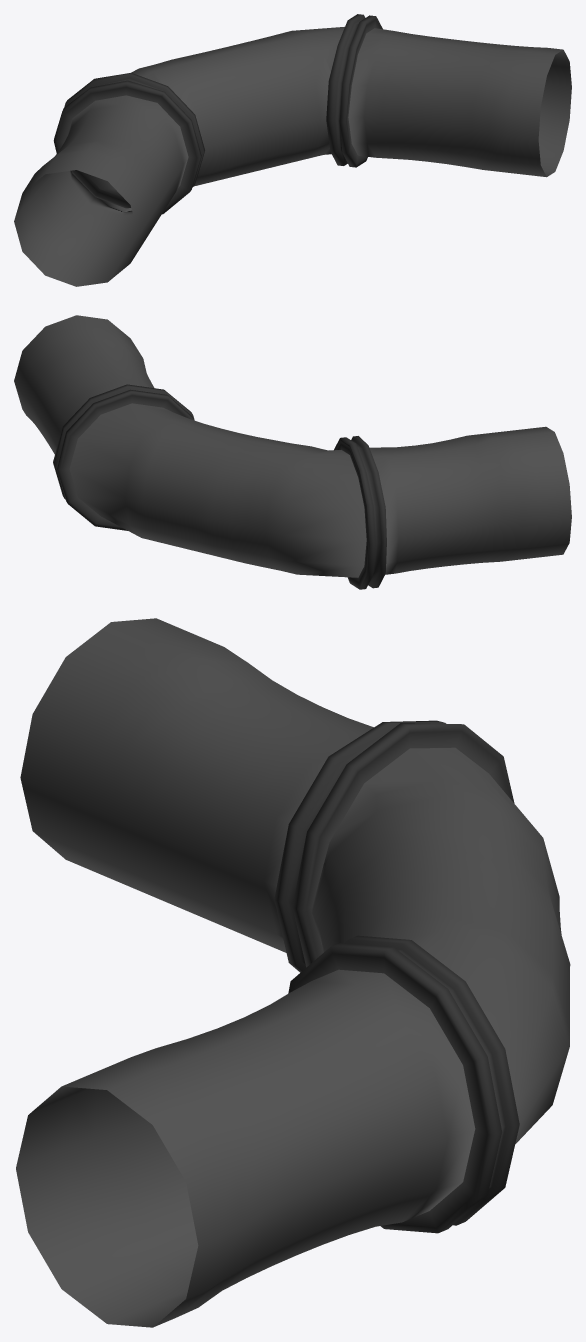
The model's file is Heaterpipe_curve2.0.fbx.
3 views of the same model, one above another, from view 1: azimuth 30°, elevation 25°; view 2: azimuth 150°, elevation 25°; view 3: azimuth 270°, elevation 25° (orthographic). The views are drawn at different scales.
Visible parts, largest first — view 1: heater_pipe_90g; view 2: heater_pipe_90g; view 3: heater_pipe_90g.
Boxes of the visible parts, <box> form: heater_pipe_90g: <box>14,14,571,286</box>; heater_pipe_90g: <box>14,315,571,589</box>; heater_pipe_90g: <box>16,618,570,1327</box>.
Bounding box in the file's own units: 199 × 47.74 × 85.9.
Materials: 1 (1 with a texture image).
